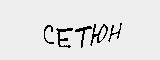Е: (55, 28, 75, 51)
Н: (108, 20, 122, 43)
С: (41, 22, 57, 47)
Т: (71, 25, 90, 51)
Ю: (89, 22, 107, 48)
